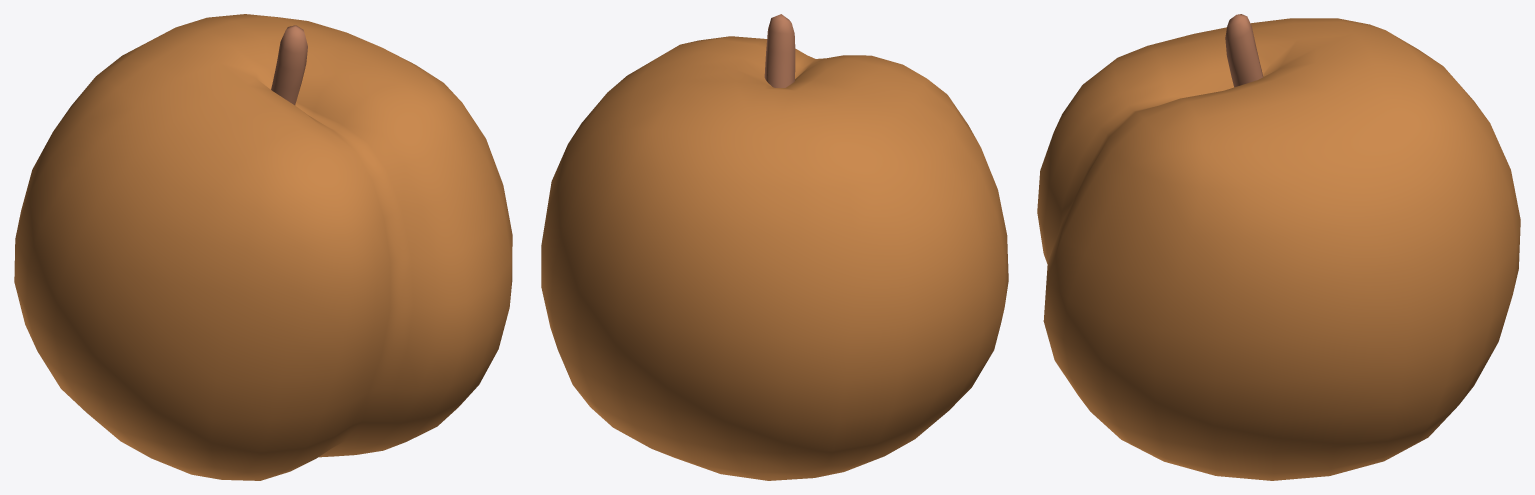
File: Plum_03.dae
3 renders of one model, left to right at view 1: azimuth 30°, elevation 25°; view 2: azimuth 150°, elevation 25°; view 3: azimuth 270°, elevation 25°, orthographic. The views are drawn at different scales.
Parts seen in each view (by area): view 1: Plum_03_LOD0; view 2: Plum_03_LOD0; view 3: Plum_03_LOD0.
Boxes of the visible parts, x1,y1,x2,y2 form: Plum_03_LOD0: (14, 14, 512, 480); Plum_03_LOD0: (541, 14, 1008, 480); Plum_03_LOD0: (1037, 14, 1520, 480).
Size of what is drawn, in the model's own units: 4.23 by 4.12 by 4.22.
